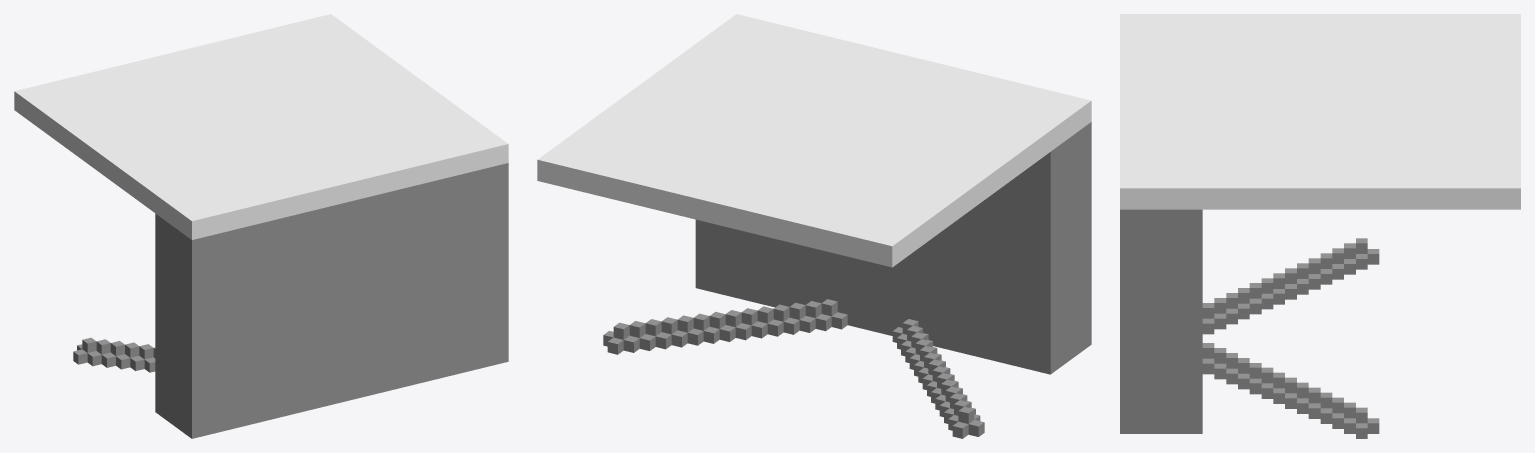
Rendered from Desk1-1.fbx.
The picture shows the model from 3 angles, left to right: view 1: azimuth 30°, elevation 25°; view 2: azimuth 150°, elevation 25°; view 3: azimuth 270°, elevation 25°; orthographic projection. The views are drawn at different scales.
Visible parts, largest first — view 1: Desk1-1.002, Desk1-1.003, Desk1-1.005, Desk1-1, Desk1-1.001; view 2: Desk1-1.002, Desk1-1.005, Desk1-1.003, Desk1-1.004, Desk1-1, Desk1-1.001; view 3: Desk1-1.002, Desk1-1, Desk1-1.001, Desk1-1.004.
Part boxes in pixels (left/top/right/bottom): Desk1-1.002: left=14, top=14, right=508, bottom=239; Desk1-1.003: left=282, top=183, right=427, bottom=416; Desk1-1.005: left=155, top=213, right=282, bottom=438; Desk1-1: left=427, top=163, right=508, bottom=381; Desk1-1.001: left=73, top=337, right=155, bottom=372; Desk1-1.002: left=537, top=14, right=1091, bottom=267; Desk1-1.005: left=949, top=122, right=1091, bottom=374; Desk1-1.003: left=787, top=226, right=948, bottom=349; Desk1-1.004: left=603, top=299, right=847, bottom=354; Desk1-1: left=695, top=219, right=786, bottom=307; Desk1-1.001: left=892, top=319, right=984, bottom=438; Desk1-1.002: left=1120, top=14, right=1520, bottom=209; Desk1-1: left=1120, top=209, right=1202, bottom=433; Desk1-1.001: left=1202, top=238, right=1379, bottom=334; Desk1-1.004: left=1202, top=343, right=1379, bottom=438.
Size of the model in its own units: 3.7 by 2.3 by 3.4.
